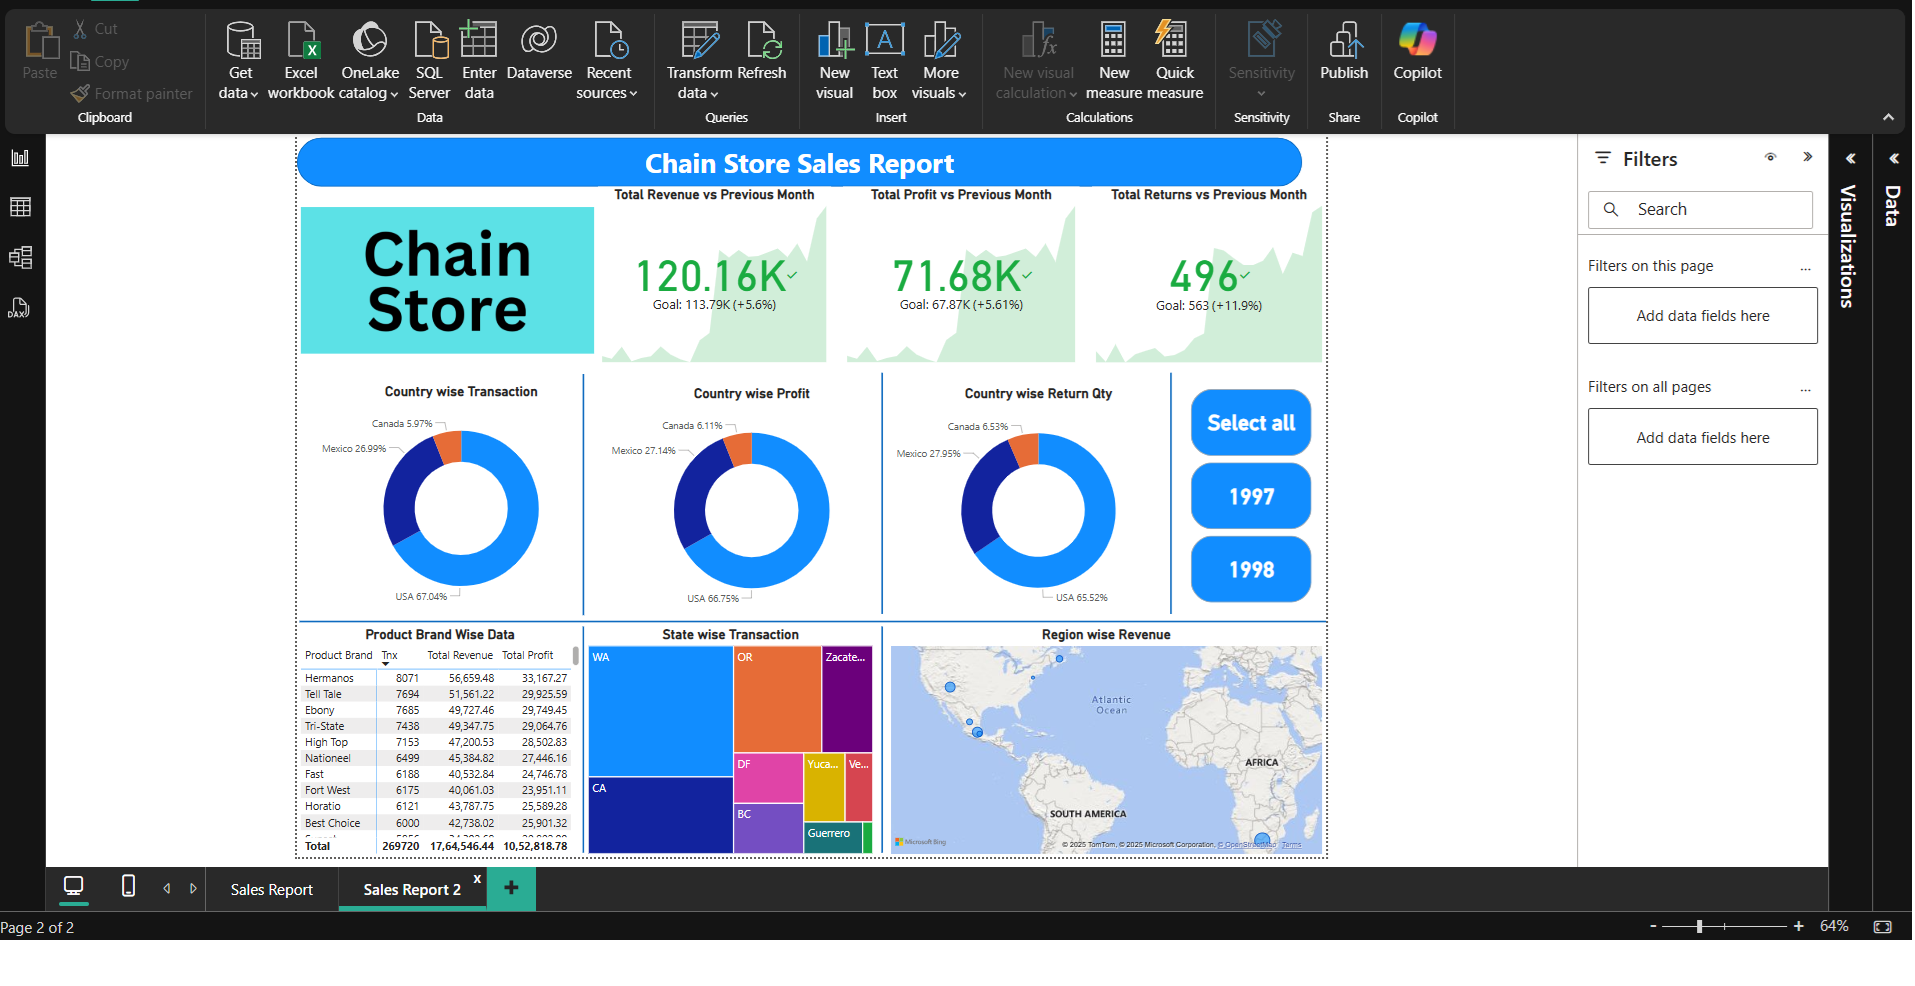

This screenshot's page, from the dashboard's own definition file:
{"tool":"powerbi","page":{"name":"Sales Report ","canvas":[1280,900],"ordinal":0},"visuals":[{"type":"shape","box":[0,4.7,1250.2,60.6],"z":0},{"type":"donutChart","title":"Country wise Transaction","fields":{"Category":["Stores_d.store_country"],"Y":["Measures (2).M_Total_Transaction"]},"box":[14,309.4,381,293.9],"z":1000},{"type":"donutChart","title":"Country wise Profit","fields":{"Category":["Stores_d.store_country"],"Y":["Measures (2).M_Total_Profit"]},"box":[371.4,312.9,388.6,292.9],"z":2000},{"type":"donutChart","title":"Country wise Return Qty","fields":{"Category":["Stores_d.store_country"],"Y":["Measures (2).M_Qty_Return"]},"box":[734.3,312.9,377.1,292.9],"z":3000},{"type":"advancedSlicerVisual","fields":{"Values":["Calendar_d.date.Variation.Date Hierarchy.Year"]},"box":[1107.1,312.9,160,277.1],"z":4000},{"type":"shape","box":[350,298.6,12.9,300],"z":5000},{"type":"shape","box":[721.4,297.2,12.9,300],"z":6000},{"type":"shape","box":[1081.4,297.2,12.9,300],"z":7000},{"type":"shape","box":[2.5,599.7,1277.5,12.5],"z":8000},{"type":"pivotTable","title":"Product Brand Wise Data","fields":{"Rows":["Products_d.product_brand"],"Values":["Measures (2).M_Total_Transaction","Measures (2).M_Total_Revenue","Measures (2).M_Total_Profit"]},"box":[0,612.7,356.1,287.7],"z":9000},{"type":"shape","box":[350,612.9,12.9,281.4],"z":10000},{"type":"shape","box":[721.4,612.9,12.9,281.4],"z":11000},{"type":"treemap","title":"State wise Transaction","fields":{"Group":["Stores_d.store_state"],"Values":["Measures (2).M_Total_Transaction"]},"box":[357.6,612.7,363.9,287.7],"z":12000},{"type":"map","title":"Region wise Revenue","fields":{"Size":["Measures (2).M_Total_Revenue"],"Category":["Regions_d.sales_region"]},"box":[733.9,612.7,545.8,287.7],"z":13000},{"type":"kpi","title":"Total Revenue vs Previous Month","fields":{"Indicator":["Measures (2).M_Total_Revenue"],"Goal":["Measures (2).M_Prev_Month_Revenue"],"TrendLine":["Calendar_d.Start of Month"]},"box":[374.7,65.3,289.2,223.9],"z":14000},{"type":"kpi","title":"Total Profit vs Previous Month","fields":{"Indicator":["Measures (2).M_Total_Profit"],"Goal":["Measures (2).M_Prev_Month_Profit"],"TrendLine":["Calendar_d.Start of Month"]},"box":[679.5,65.3,293.9,223.9],"z":15000},{"type":"kpi","title":"Total Returns vs Previous Month","fields":{"TrendLine":["Calendar_d.Start of Month"],"Indicator":["Measures (2).M_Total_Returns"],"Goal":["Measures (2).M_Prev_Month_Return"]},"box":[988.6,64.8,291.4,224.3],"z":16000},{"type":"image","box":[0,66.9,374.7,230.1],"z":17000}]}

Visuals, with their boxes on the page's 1280x900 design canvas (x1, y1, x2, y2). These are canvas units, not pixel positions in the 1915x986 screenshot, which may show the page scaled, cropped or inside an application window:
shape: 0,5,1250,65
"Country wise Transaction" donutChart: 14,309,395,603
"Country wise Profit" donutChart: 371,313,760,606
"Country wise Return Qty" donutChart: 734,313,1111,606
advancedSlicerVisual - Calendar_d.date.Variation.Date Hierarchy.Year: 1107,313,1267,590
shape: 350,299,363,599
shape: 721,297,734,597
shape: 1081,297,1094,597
shape: 2,600,1280,612
"Product Brand Wise Data" pivotTable: 0,613,356,900
shape: 350,613,363,894
shape: 721,613,734,894
"State wise Transaction" treemap: 358,613,722,900
"Region wise Revenue" map: 734,613,1280,900
"Total Revenue vs Previous Month" kpi: 375,65,664,289
"Total Profit vs Previous Month" kpi: 680,65,973,289
"Total Returns vs Previous Month" kpi: 989,65,1280,289
image: 0,67,375,297
